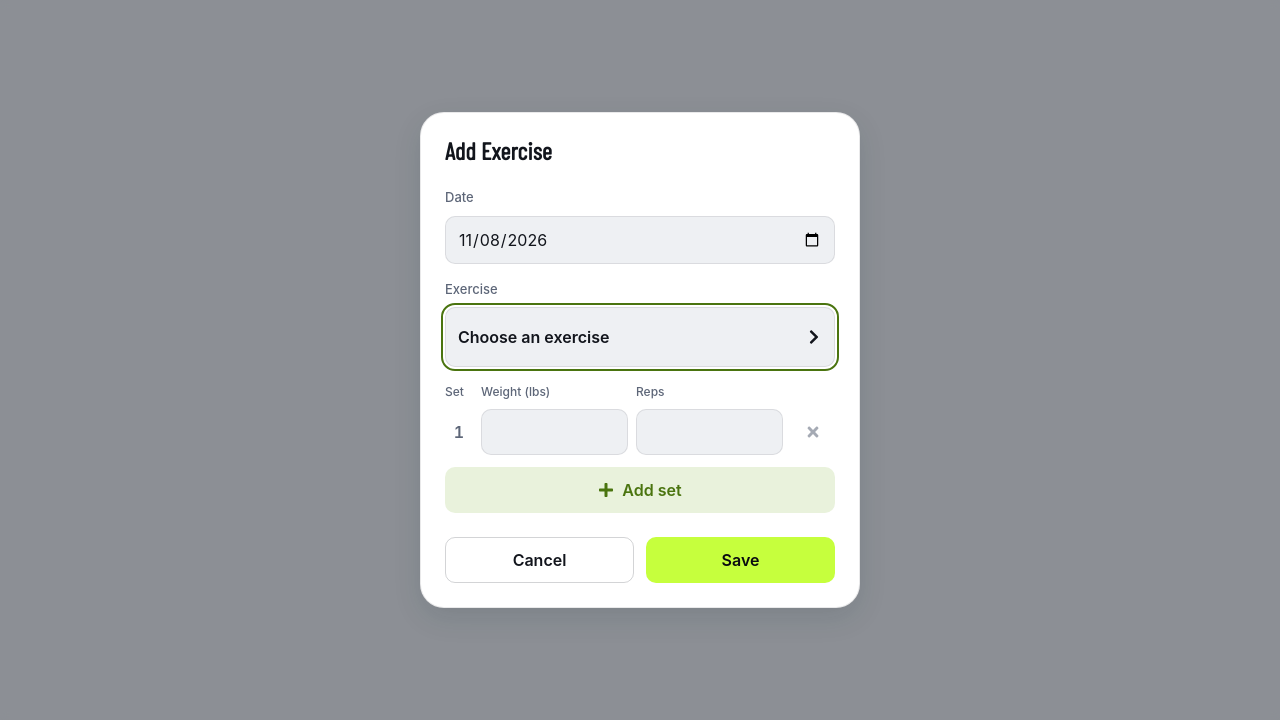
it: adding › names the incomplete set
The width and height of the screenshot is (1280, 720).
Click the button "Choose an exercise".
click(534, 337)  # box [445,307,835,367]
(page scrolled)
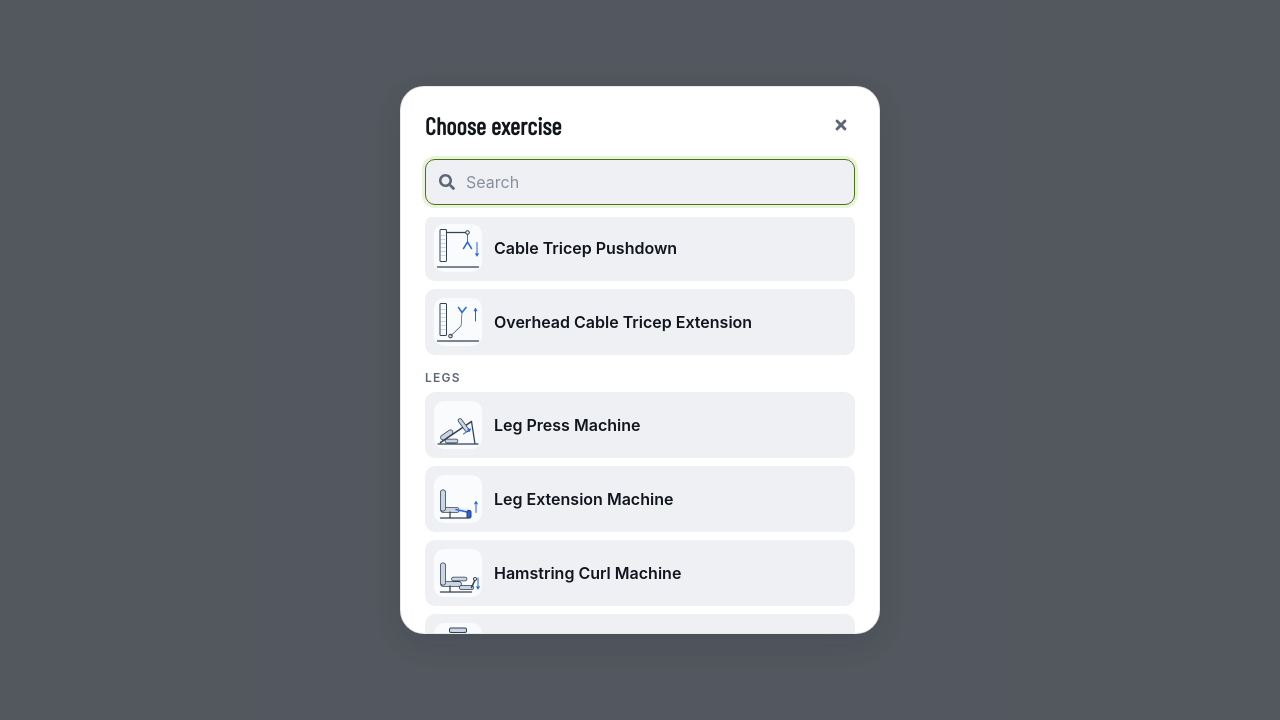
Click the button "Leg Press Machine".
click(640, 425)  # box [425,392,855,458]
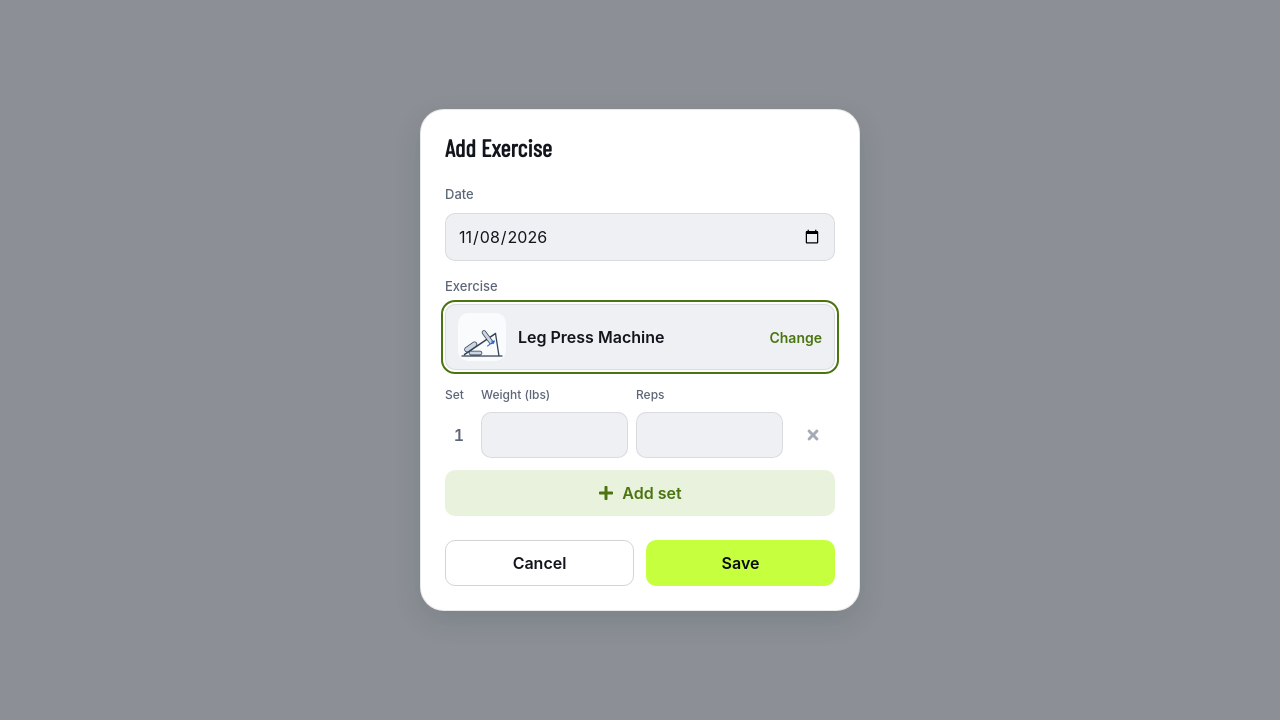
Type "225" into the number field named "set 1 weight".
click(554, 435); type("225")  # box [481,412,628,458]
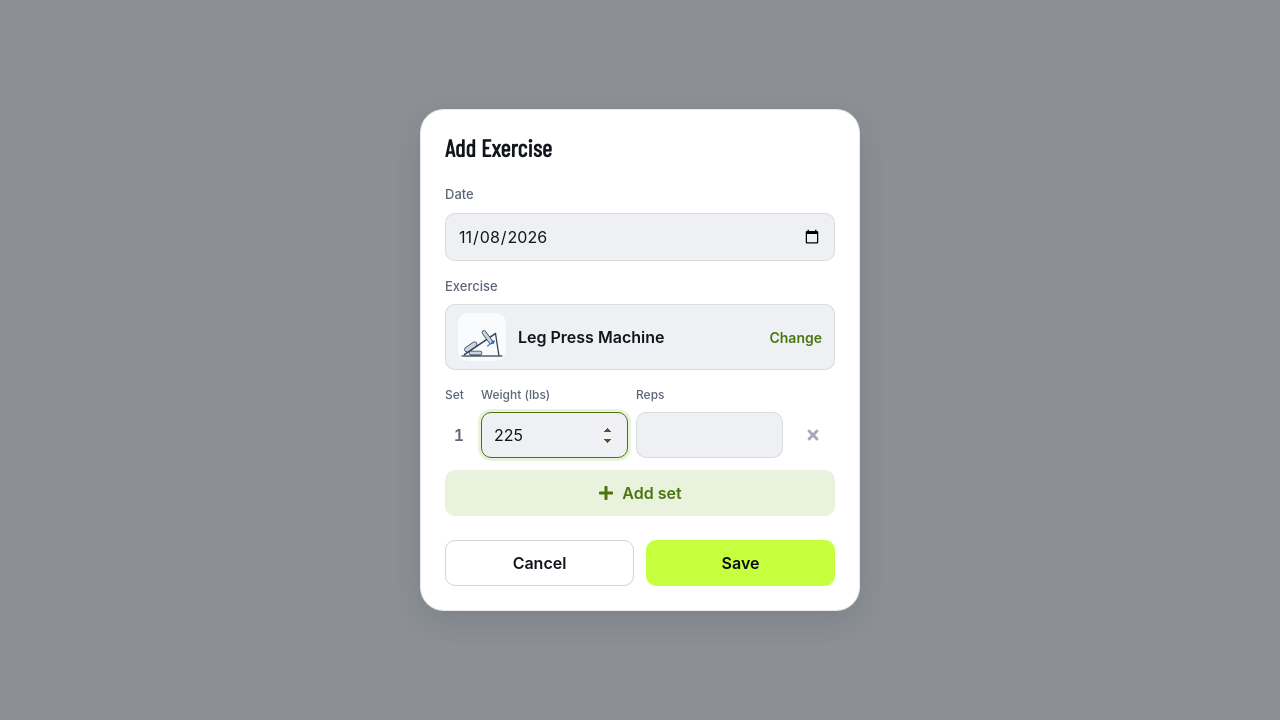
Click the button "Save".
click(740, 563)  # box [646,540,835,586]
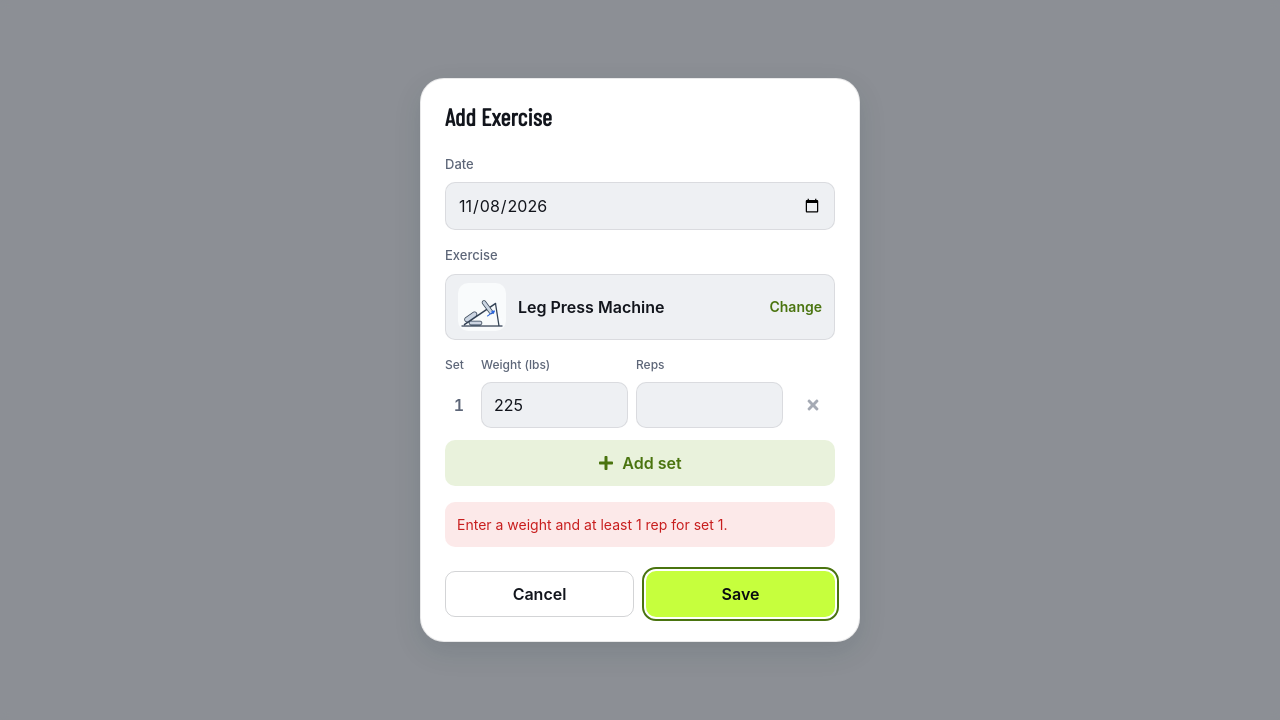
Expected: the message shows "set 1", [457,516,727,533]
